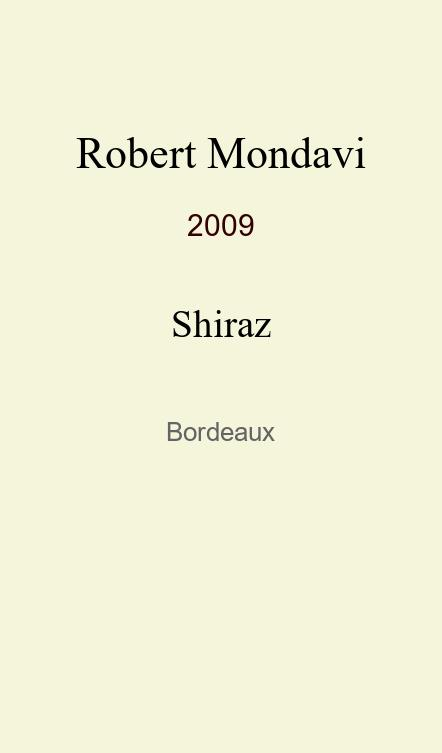brand: (76, 128, 366, 159)
region: (166, 417, 275, 436)
variety: (171, 302, 271, 329)
vintage: (187, 208, 255, 230)
